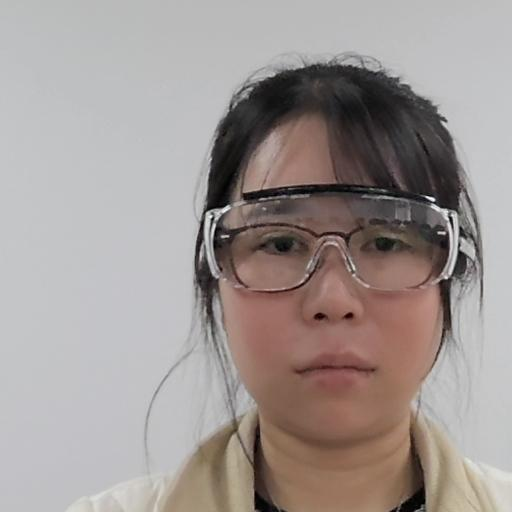glasses: (192, 64, 490, 406)
